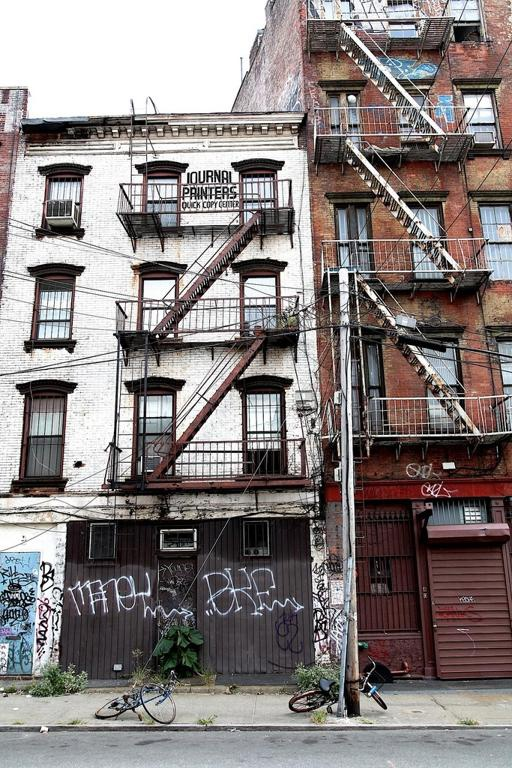non-vehicle: (286, 653, 395, 715), (91, 666, 182, 725)
